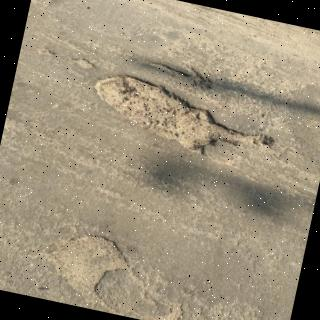pothole: (94, 75, 274, 155), (49, 236, 128, 314)
